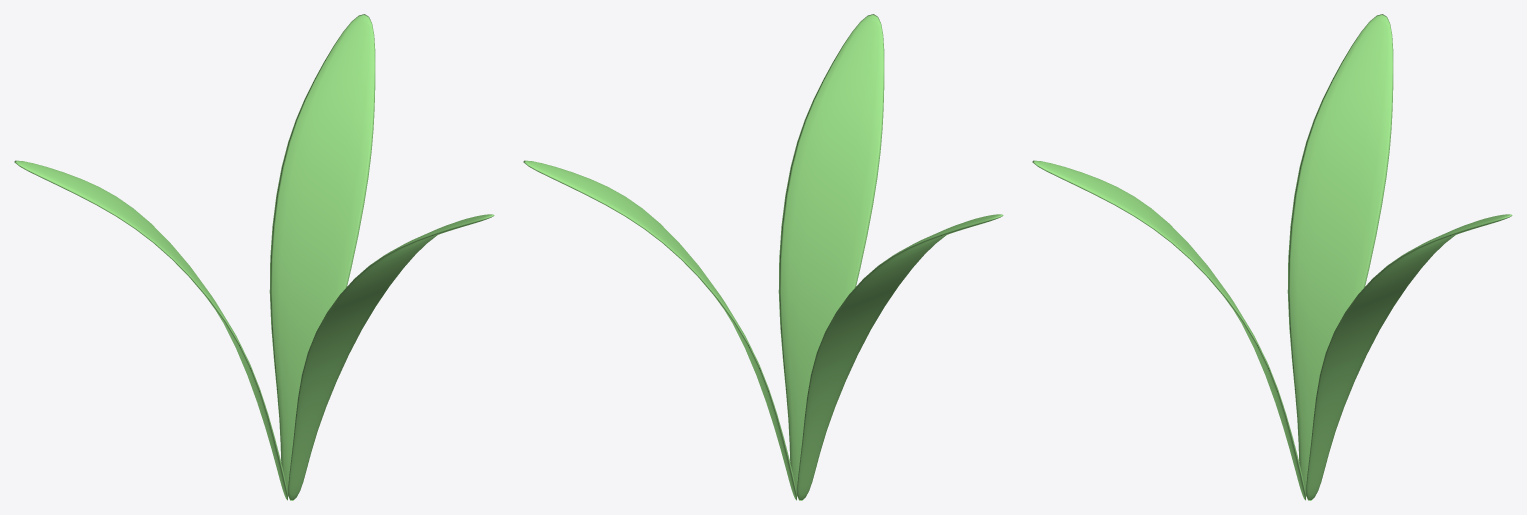
The model's file is flower_animation#1.fbx.
3 renders of one model, left to right at view 1: azimuth 30°, elevation 25°; view 2: azimuth 150°, elevation 25°; view 3: azimuth 270°, elevation 25°, orthographic.
Parts seen in each view (by area): view 1: Plane.002, Plane.010, Plane.011; view 2: Plane.010, Plane.011, Plane.002; view 3: Plane.011, Plane.002, Plane.010.
Boxes of the visible parts, x1,y1,x2,y2 form: Plane.002: (269, 14, 375, 496); Plane.010: (288, 214, 494, 500); Plane.011: (14, 160, 287, 500); Plane.010: (778, 14, 884, 496); Plane.011: (797, 214, 1003, 500); Plane.002: (523, 160, 796, 500); Plane.011: (1287, 14, 1393, 496); Plane.002: (1306, 214, 1512, 500); Plane.010: (1032, 160, 1305, 500).
Size of the model in its own units: 266 by 225 by 266.
